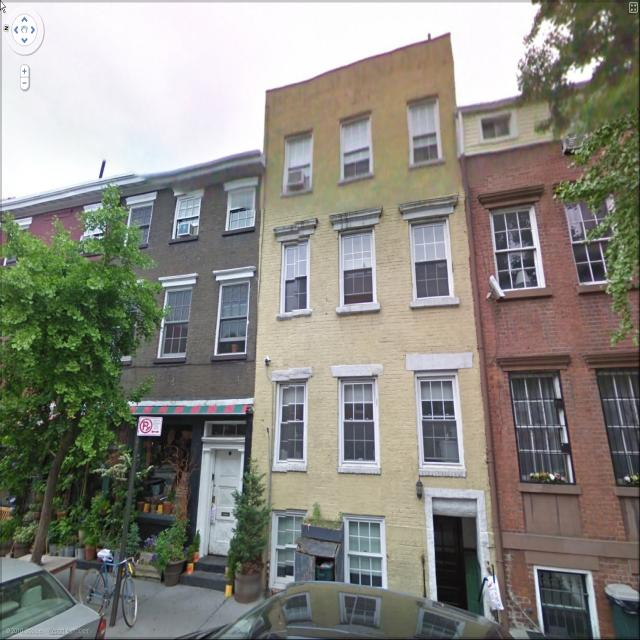b_1: (244, 57, 502, 623), (120, 160, 274, 546)
b_2: (471, 18, 638, 640), (0, 174, 126, 530)
